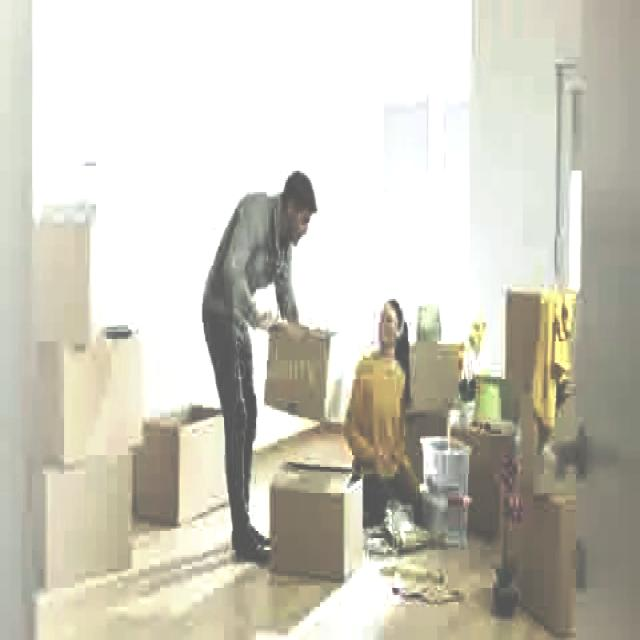Box: (36, 457, 132, 595), (269, 456, 372, 574), (56, 343, 142, 458), (150, 396, 222, 520), (36, 202, 104, 332), (262, 327, 342, 427)
